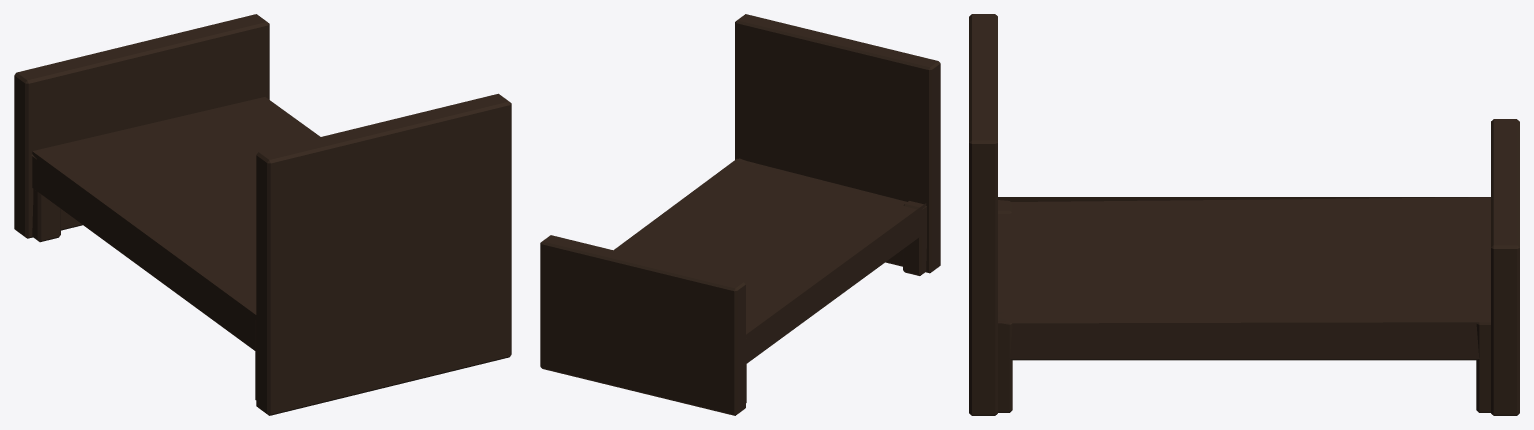
The model's file is bed_frame.fbx.
3 renders of one model, left to right at view 1: azimuth 30°, elevation 25°; view 2: azimuth 150°, elevation 25°; view 3: azimuth 270°, elevation 25°, orthographic. The views are drawn at different scales.
Visible parts, largest first — view 1: bed_frame; view 2: bed_frame; view 3: bed_frame.
Part boxes in pixels (x1=…): bed_frame: x1=14, y1=14, x2=511, y2=415; bed_frame: x1=540, y1=14, x2=940, y2=415; bed_frame: x1=969, y1=14, x2=1519, y2=415.
Size of the model in its own units: 420 by 420 by 760.
